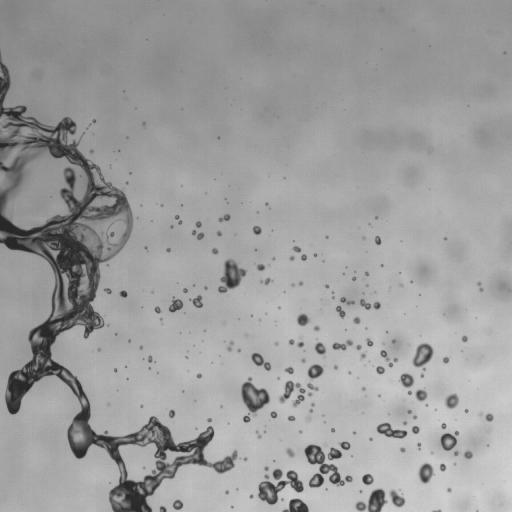droplet: (304, 444, 352, 487), (258, 469, 303, 505), (241, 377, 270, 422), (218, 259, 247, 292), (355, 488, 387, 511), (278, 380, 305, 407), (412, 342, 433, 369), (307, 364, 323, 391), (440, 430, 459, 450), (418, 463, 434, 483), (389, 490, 405, 507), (399, 373, 414, 388), (444, 393, 458, 408), (169, 298, 182, 312), (297, 313, 310, 326), (414, 388, 427, 401), (314, 341, 325, 355), (191, 295, 202, 307), (362, 474, 373, 484), (336, 306, 345, 317), (339, 441, 350, 450), (218, 214, 230, 221), (173, 500, 182, 509), (286, 448, 294, 457), (253, 226, 261, 234), (285, 366, 293, 374), (376, 366, 384, 374), (485, 413, 493, 421), (119, 290, 127, 297), (366, 338, 373, 346), (464, 451, 472, 458), (256, 264, 265, 270), (154, 306, 161, 313), (270, 411, 277, 418), (412, 426, 419, 433), (375, 236, 381, 244), (293, 246, 301, 252), (440, 463, 446, 471), (353, 317, 360, 323), (212, 248, 218, 254), (297, 341, 303, 347), (443, 357, 449, 363), (360, 352, 365, 359), (169, 410, 174, 417), (159, 506, 166, 511), (196, 221, 201, 227), (301, 254, 306, 260), (105, 288, 111, 293), (314, 325, 319, 331), (462, 336, 467, 342), (148, 356, 153, 362), (289, 339, 294, 344), (356, 345, 361, 350), (196, 373, 201, 378), (441, 423, 446, 428), (400, 447, 405, 452), (288, 416, 294, 420), (257, 432, 261, 438), (217, 231, 221, 236), (289, 256, 294, 260), (307, 392, 312, 396), (306, 416, 310, 421), (183, 288, 187, 292), (301, 358, 305, 362), (454, 451, 458, 455), (243, 457, 247, 461), (264, 466, 268, 470), (447, 488, 451, 492), (417, 443, 420, 448), (167, 248, 170, 252), (352, 277, 356, 280), (325, 284, 328, 288), (334, 365, 337, 369), (420, 373, 423, 377), (413, 415, 417, 418), (207, 418, 211, 421), (249, 495, 253, 498), (90, 150, 93, 153), (365, 272, 368, 275), (299, 282, 302, 285), (392, 339, 395, 342), (408, 391, 411, 394), (309, 409, 312, 412), (403, 422, 406, 425), (331, 428, 334, 431), (225, 491, 228, 494), (92, 120, 95, 122), (314, 254, 317, 256), (204, 287, 207, 289), (362, 387, 364, 390), (465, 409, 467, 412), (408, 410, 410, 413), (353, 431, 355, 434), (369, 438, 372, 440), (145, 247, 147, 249), (400, 284, 402, 286), (278, 306, 280, 308), (238, 349, 240, 351), (114, 369, 116, 371), (479, 413, 481, 415)
ligament: (0, 55, 237, 511), (376, 422, 407, 438), (282, 498, 309, 511), (251, 353, 271, 370), (380, 350, 397, 367), (332, 339, 353, 350), (360, 299, 380, 309), (192, 230, 204, 239), (340, 297, 354, 304), (261, 278, 272, 284), (227, 341, 233, 351), (175, 215, 181, 223), (477, 282, 482, 291), (433, 509, 441, 511), (80, 134, 83, 138)
